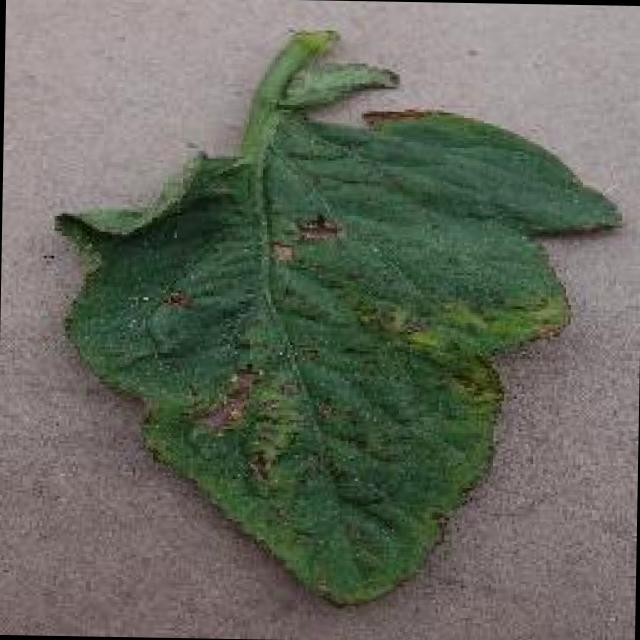Tomato bacterial spot leaf: (30, 13, 634, 625)
